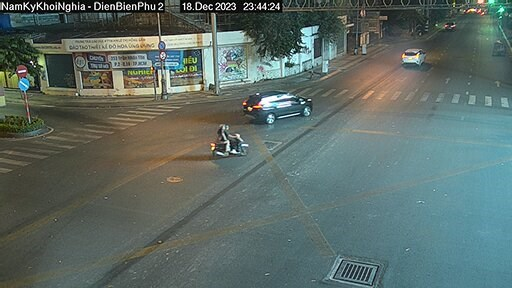car: (242, 89, 314, 124), (398, 44, 430, 66)
motorbike: (208, 122, 256, 164)
